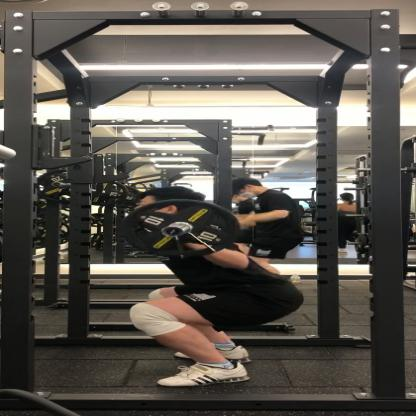Barbell: (101, 193, 248, 266)
